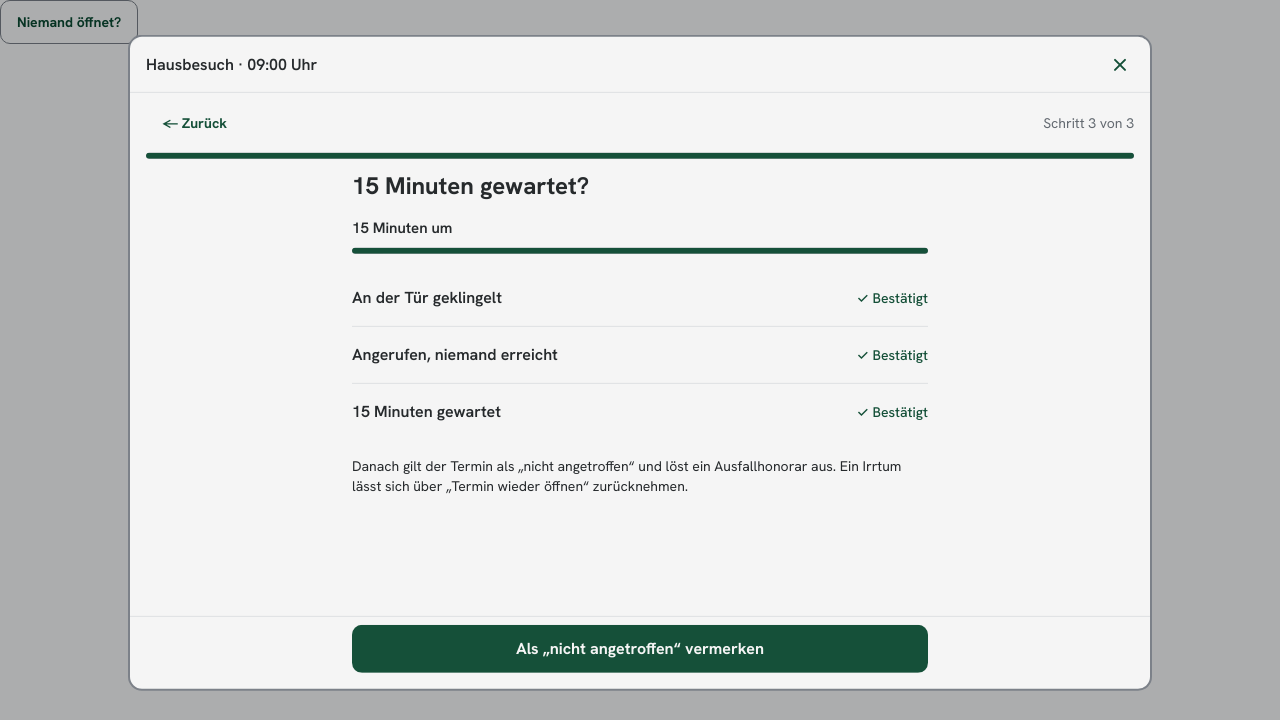
Test: Niemand öffnet - geführt (G1, ANN-573) › vermerkt vorher nur mit „schon vorher gewartet“ und liest den Stand unmittelbar davor
Click the button "Niemand öffnet?" at (69, 22), box left=0, top=0, right=138, bottom=44
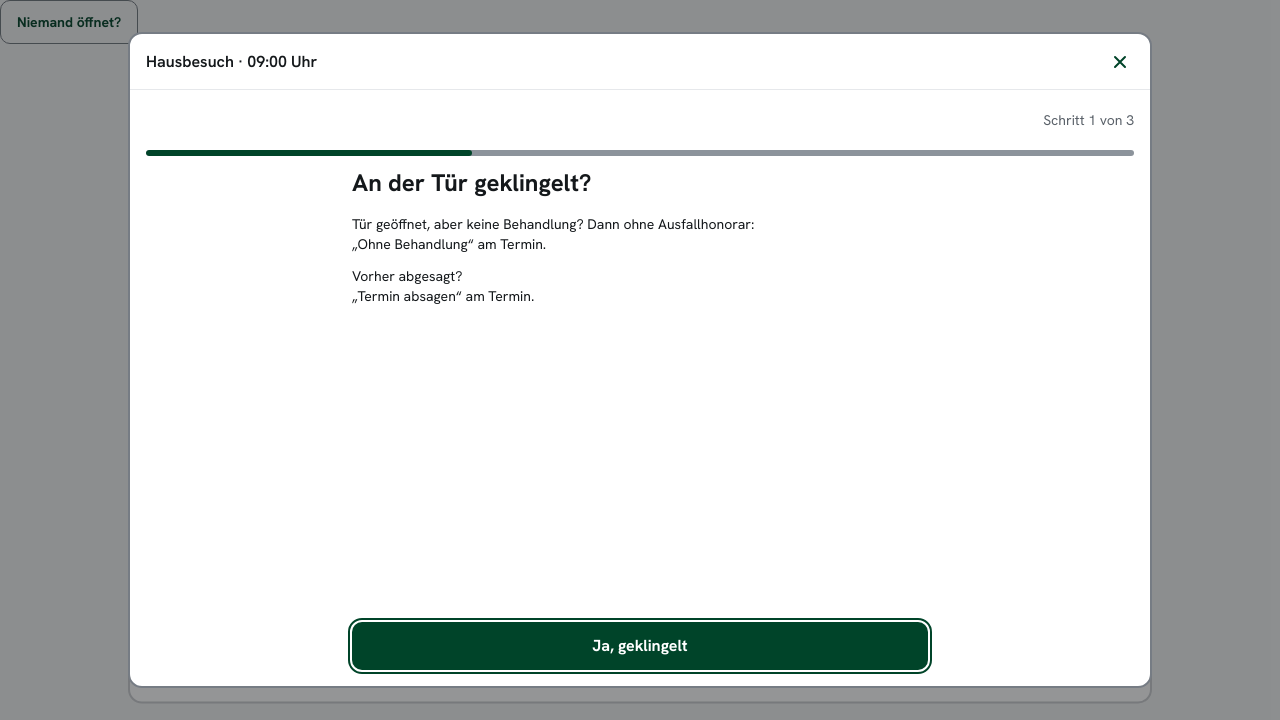
Click the button "Ja, geklingelt" at (640, 646), box left=352, top=622, right=928, bottom=670
Wait 750 ms
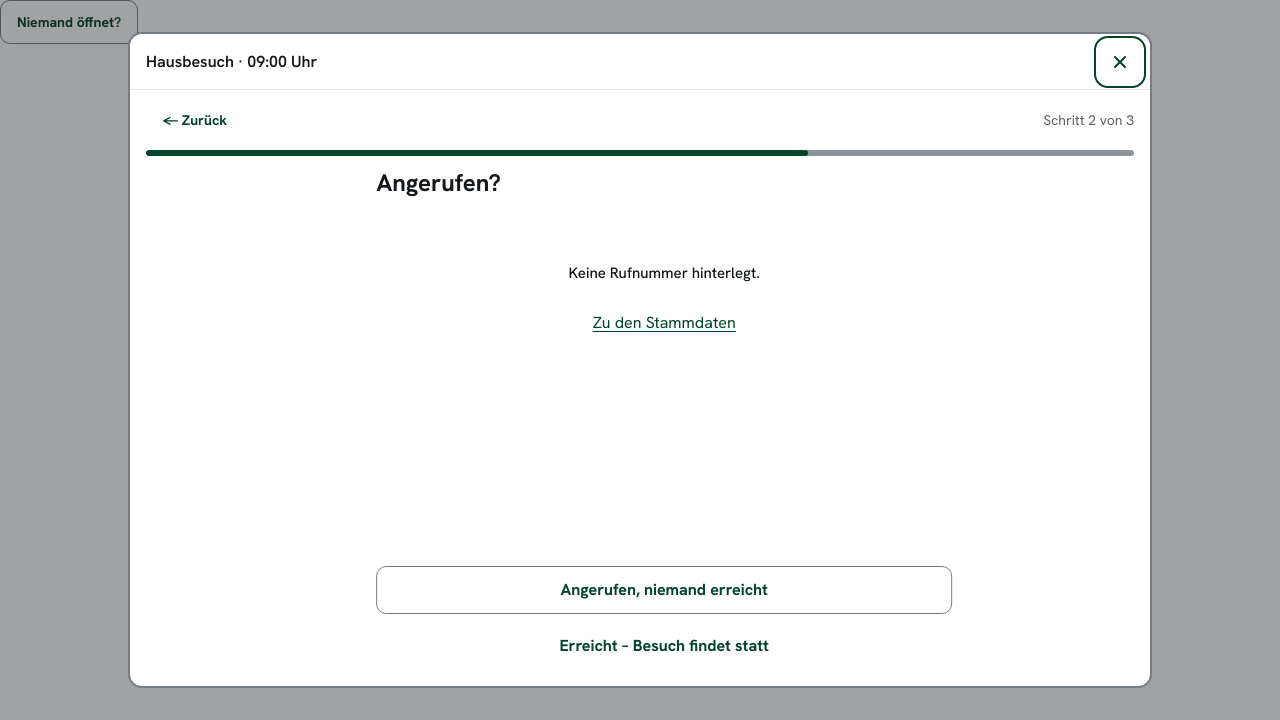
Click the button "Angerufen, niemand erreicht" at (653, 590), box left=365, top=566, right=941, bottom=614
Wait 750 ms
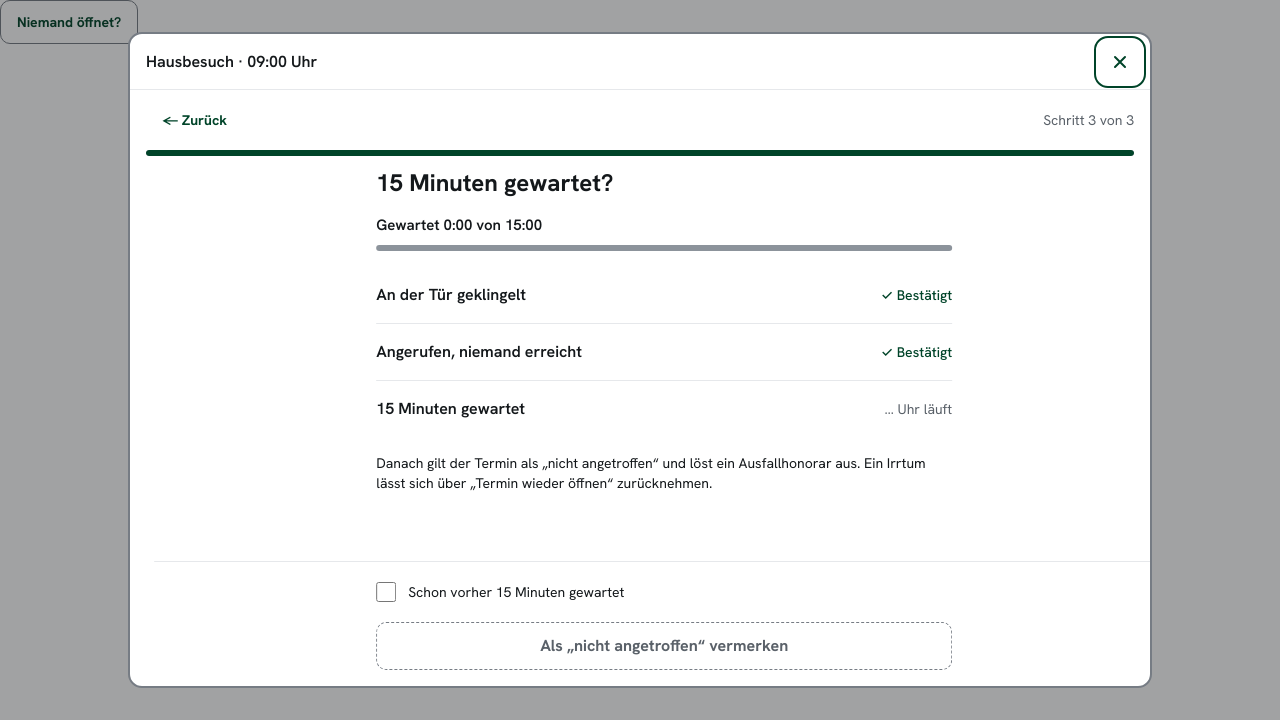
Click the checkbox labelled "Schon vorher 15 Minuten gewartet" at (375, 592), box left=365, top=582, right=385, bottom=602
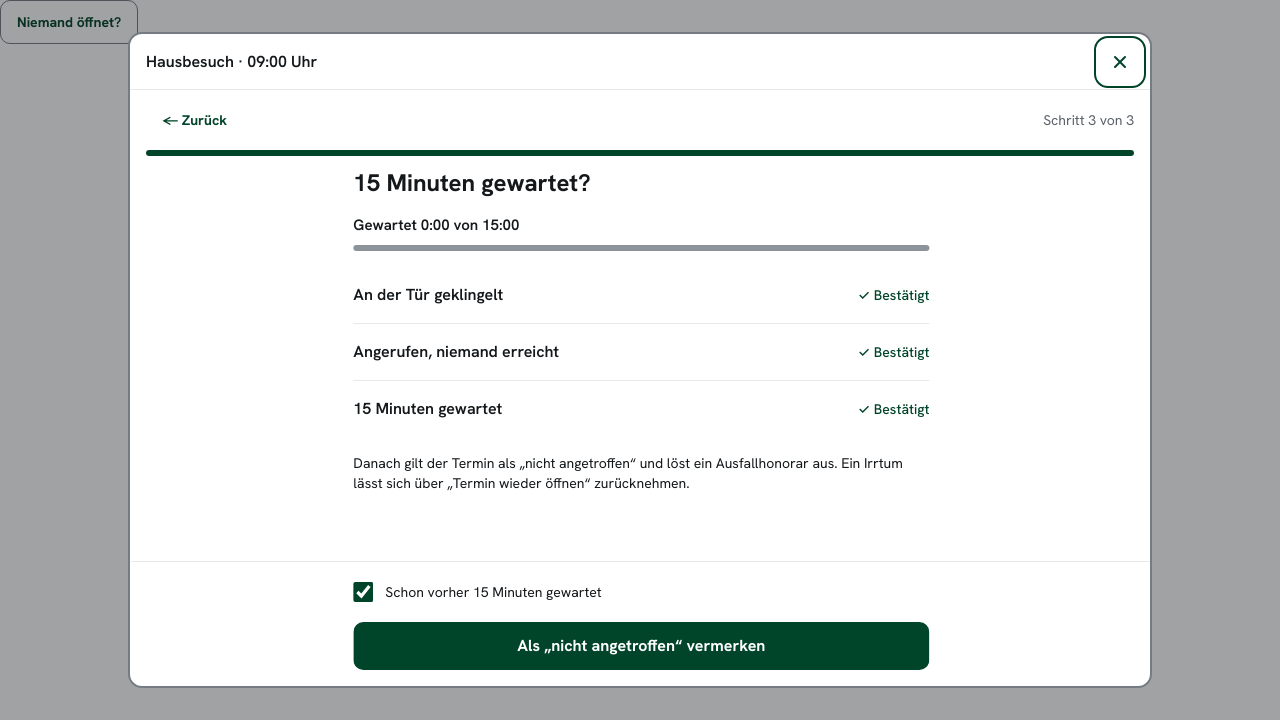
Click the button "Als „nicht angetroffen“ vermerken" at (640, 646), box left=352, top=622, right=928, bottom=670
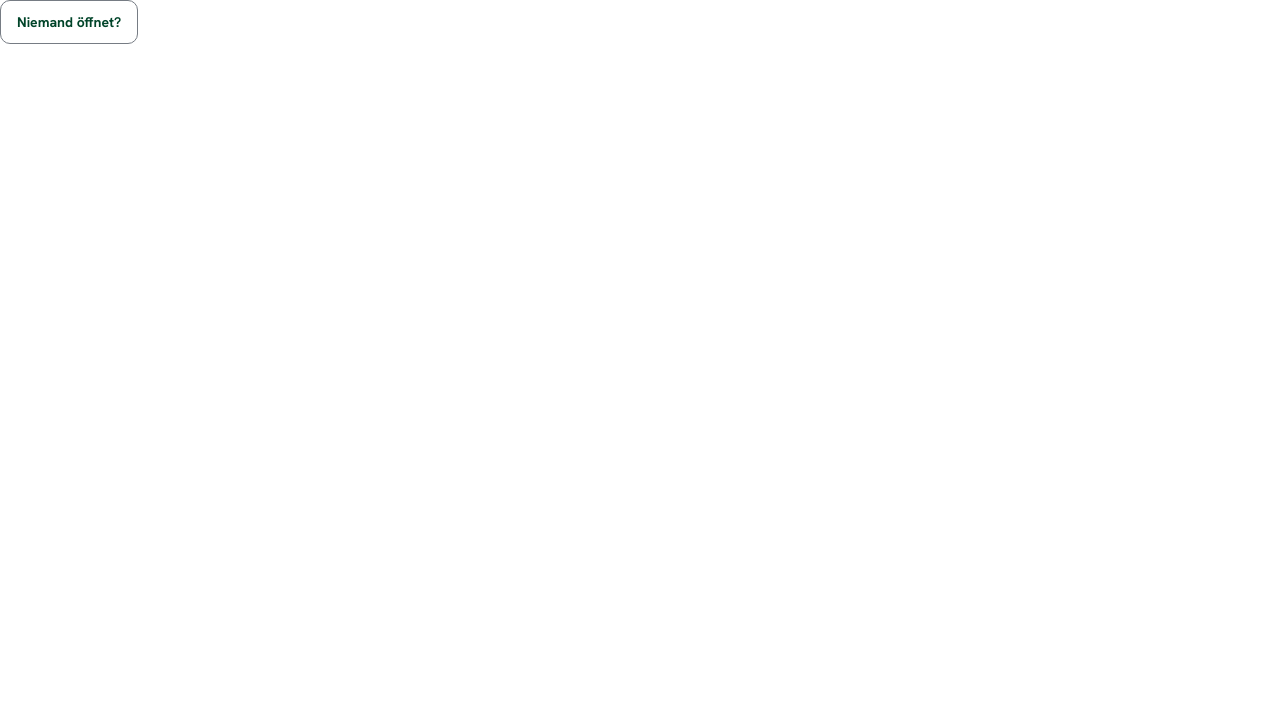
Now the dialog is gone
